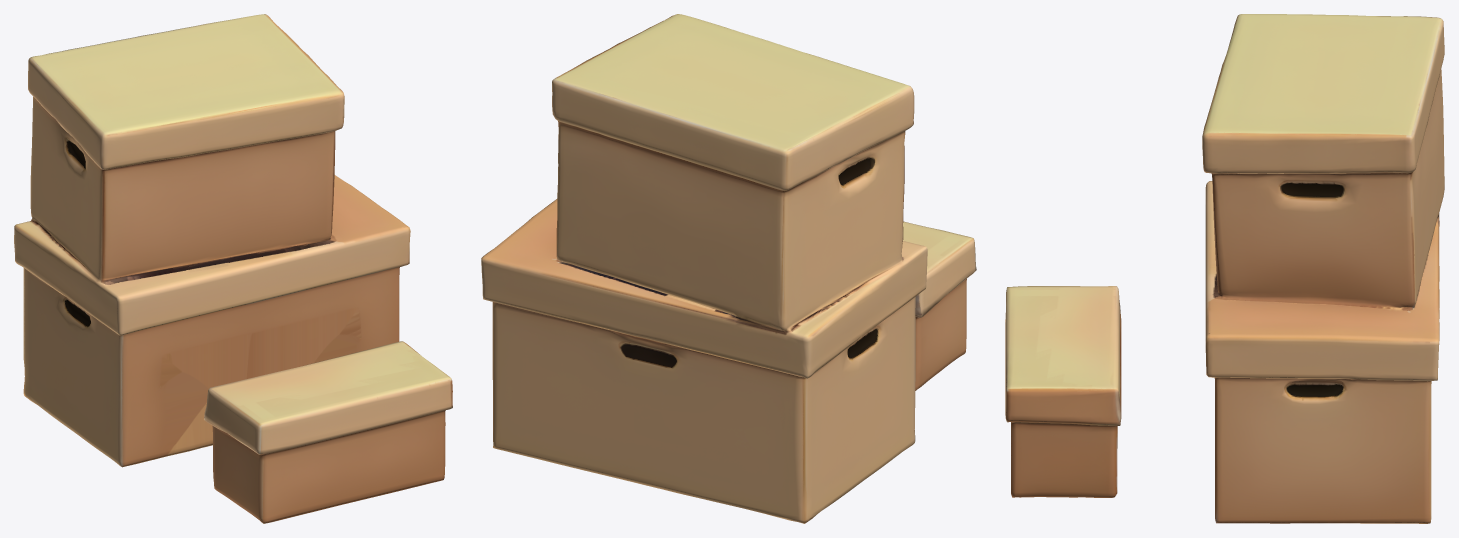
The model's file is CardboardBoxes.glb.
The picture shows the model from 3 angles, left to right: view 1: azimuth 30°, elevation 25°; view 2: azimuth 150°, elevation 25°; view 3: azimuth 270°, elevation 25°; orthographic projection. The views are drawn at different scales.
Parts seen in each view (by area): view 1: model; view 2: model; view 3: model.
Boxes of the visible parts, box(x1,y1,x2,y2) form: model: box(14, 14, 452, 523); model: box(481, 14, 976, 523); model: box(1005, 14, 1444, 523).
Size of the model in its own units: 16.13 by 17.43 by 19.03.
1 material, 1 textured.
